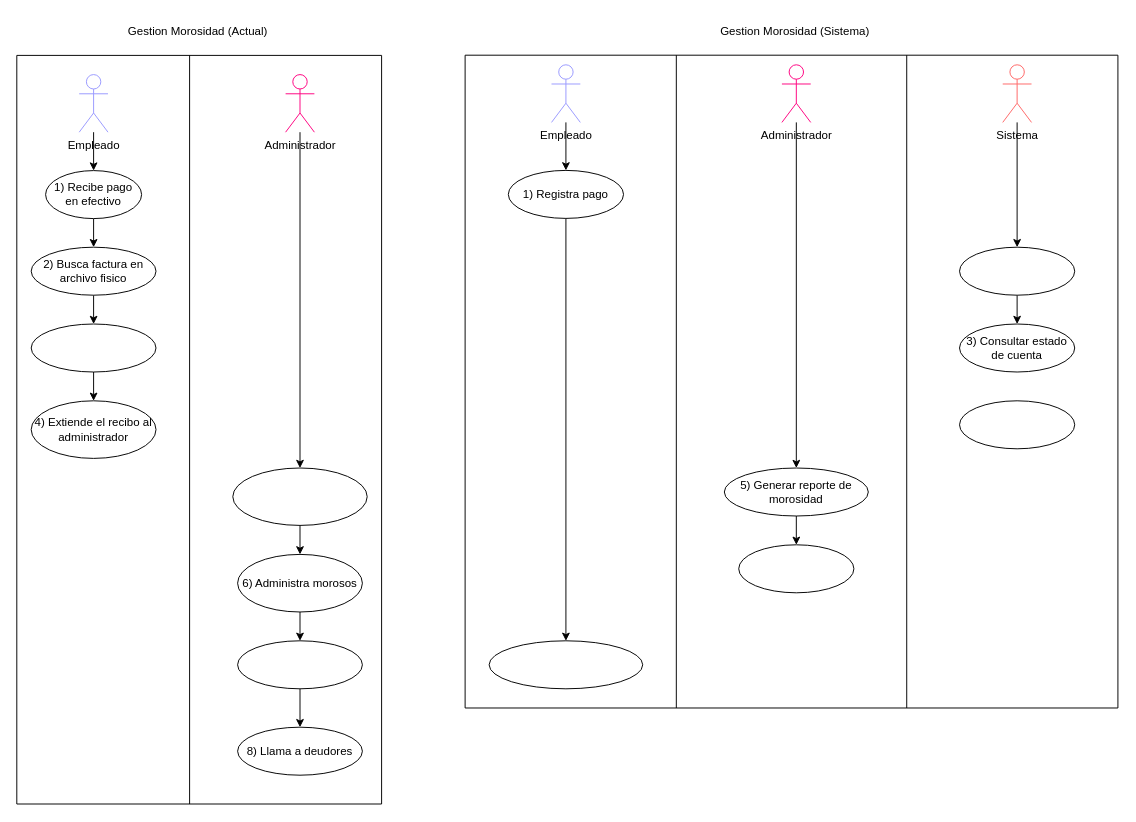
Image size: 1136x822. Some labels were removed from this diagram. Here are the shapes that lost their labels. From the top down, the box of each, then its label:
(959, 246, 1075, 295): 2) Calcular pago
(30, 323, 156, 372): 3) Calcula morosidad
(959, 400, 1075, 449): 4) Aplicar Intereses
(232, 467, 367, 525): 5) Calcula interes
(738, 544, 854, 593): 6) Activa o Desactiva conexion
(237, 640, 362, 689): 7) Activa o Desactiva conexion
(488, 640, 643, 689): 7) Notificar morosidad al usuario/ sistema
